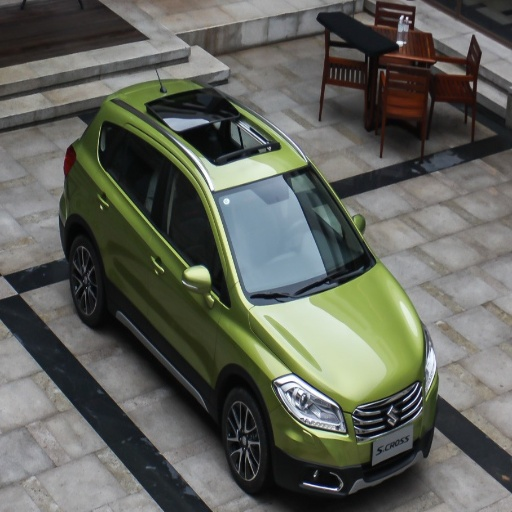front_bumper: (273, 386, 432, 496)
front_right_door: (145, 166, 223, 396)
front_right_light: (277, 376, 347, 434)
hood: (251, 271, 425, 412)
